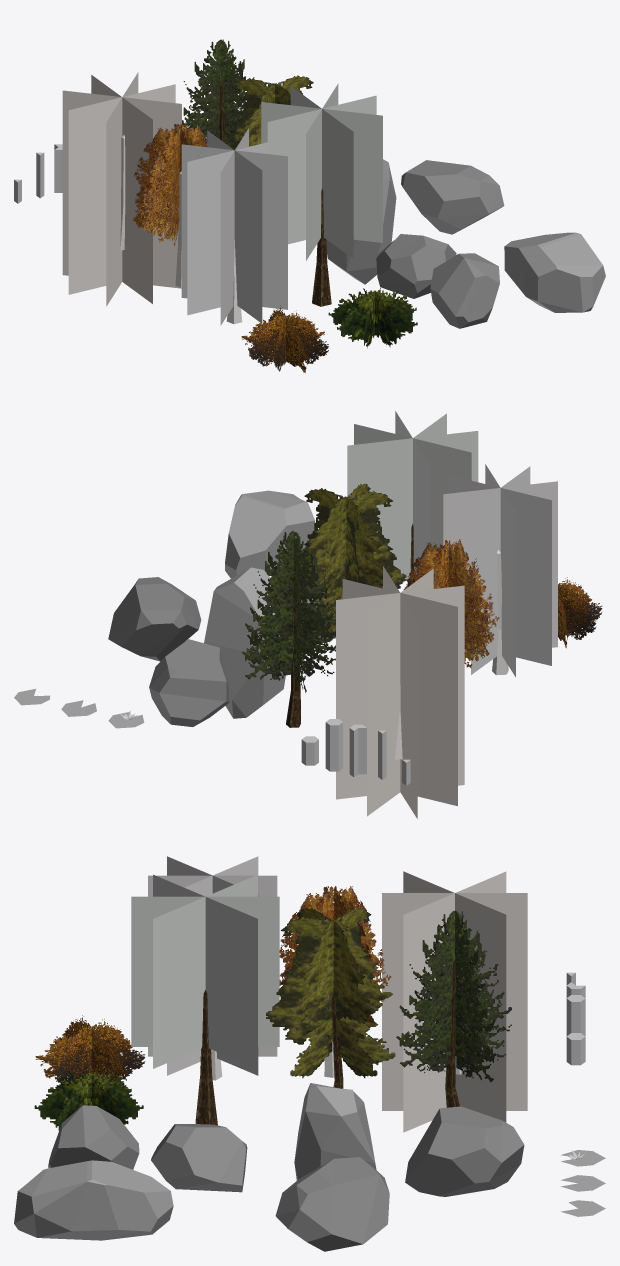
The model's file is Ps1ForestSet.fbx.
3 views of the same model, one above another, from view 1: azimuth 30°, elevation 25°; view 2: azimuth 150°, elevation 25°; view 3: azimuth 270°, elevation 25° (orthographic). The views are drawn at different scales.
Parts seen in each view (by area): view 1: Ps1Tree6Texture.001, Rock3, Ps1Tree4Texture.003, Ps1Tree4Texture.001, Rock4, Ps1Tree1Texture.003, Ps1Tree6Texture, Ps1Tree4Texture, Ps1Tree1Texture, Ps1Tree6Texture.003, Rock2, Ps1Tree1Texture.001 (+21 smaller); view 2: Ps1Tree6Texture.001, Ps1Tree6Texture.002, Ps1Tree4Texture.001, Ps1Tree6Texture, Rock1, Rock4, Ps1Tree3Texture.002, Rock5, Rock3, Ps1Tree1Texture, Ps1Tree4Texture, Ps1Tree6Texture.003 (+20 smaller); view 3: Ps1Tree6Texture, Rock3, Ps1Tree1Texture.002, Ps1Tree1Texture.003, Rock5, Rock4, Ps1Tree1Texture, Ps1Tree6Texture.003, Ps1Tree6Texture.002, Ps1Tree2Texture, Rock6, Rock1 (+23 smaller).
Part boxes in pixels (box(x1,y1,x2,y2)): Ps1Tree6Texture.001: box(68, 84, 175, 294); Rock3: box(504, 232, 605, 312); Ps1Tree4Texture.003: box(181, 144, 287, 309); Ps1Tree4Texture.001: box(187, 142, 267, 315); Rock4: box(401, 160, 504, 234); Ps1Tree1Texture.003: box(261, 102, 382, 242); Ps1Tree6Texture: box(91, 75, 152, 303); Ps1Tree4Texture: box(207, 130, 262, 323); Ps1Tree1Texture: box(290, 86, 353, 258); Ps1Tree6Texture.003: box(62, 90, 181, 288); Rock2: box(430, 253, 499, 328); Ps1Tree1Texture.001: box(267, 95, 376, 244); Ps1Tree6Texture.001: box(342, 579, 457, 806); Ps1Tree6Texture.002: box(336, 585, 464, 799); Ps1Tree4Texture.001: box(449, 475, 551, 665); Ps1Tree6Texture: box(367, 568, 433, 816); Rock1: box(204, 567, 285, 718); Rock4: box(108, 577, 201, 661); Ps1Tree3Texture.002: box(241, 531, 335, 680); Rock5: box(149, 639, 229, 726); Rock3: box(225, 490, 315, 578); Ps1Tree1Texture: box(379, 413, 446, 585); Ps1Tree4Texture: box(471, 466, 530, 674); Ps1Tree6Texture.003: box(383, 566, 417, 818); Ps1Tree6Texture: box(382, 893, 527, 1110); Rock3: box(14, 1160, 173, 1240); Ps1Tree1Texture.002: box(153, 874, 257, 1068); Ps1Tree1Texture.003: box(153, 874, 257, 1068); Rock5: box(405, 1106, 524, 1196); Rock4: box(275, 1157, 389, 1251); Ps1Tree1Texture: box(131, 896, 279, 1046); Ps1Tree6Texture.003: box(403, 871, 506, 1132); Ps1Tree6Texture.002: box(403, 871, 506, 1122); Ps1Tree2Texture: box(266, 917, 395, 1065); Rock6: box(151, 1124, 247, 1192); Rock1: box(294, 1083, 376, 1180).
Size of the model in its own units: 421 by 253 by 489.
